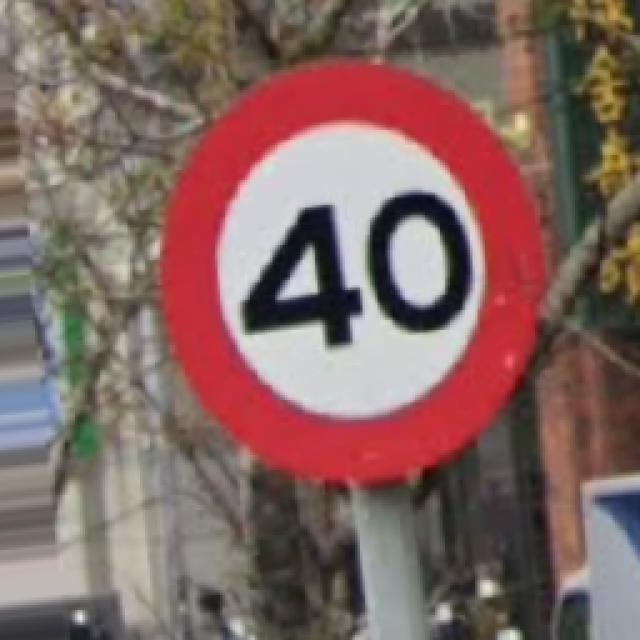Speed Limit -40-: (162, 62, 545, 480)
